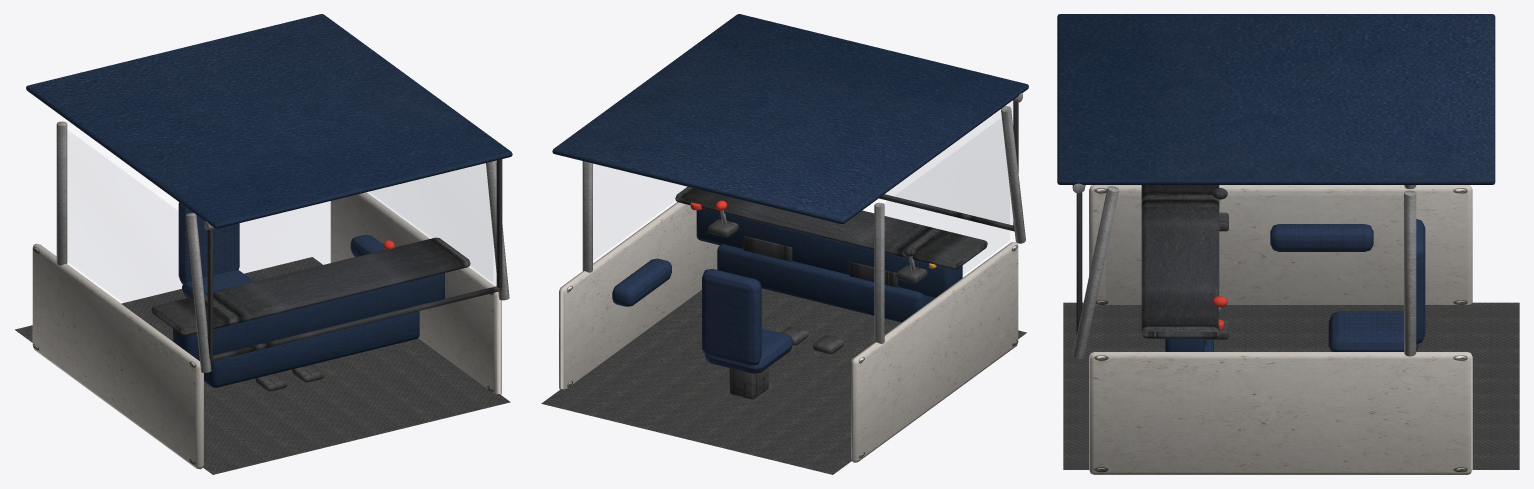
Rendered from train-cab.glb.
3 views of the same model, side by side, from view 1: azimuth 30°, elevation 25°; view 2: azimuth 150°, elevation 25°; view 3: azimuth 270°, elevation 25° (orthographic). The views are drawn at different scales.
Visible parts, largest first — view 1: Roof lining, TrainCabRoot_Static_IMG_Lower_panel_fasteners, TrainCabRoot_Static_IMG_antislip_floor_rubber, TrainCabRoot_Static_IMG_rubber_gaskets, TrainCabRoot_Static_IMG_blank_navy_cockpit, TrainCabRoot_Static_IMG_thin_transparent_safety_glazing, TrainCabRoot_Static_IMG_brushed_aluminium, TrainCabRoot_Static_IMG_woven_navy_seating, TrainCabRoot_Static_IMG_dark_underbody_steel; view 2: Roof lining, TrainCabRoot_Static_IMG_Lower_panel_fasteners, TrainCabRoot_Static_IMG_antislip_floor_rubber, TrainCabRoot_Static_IMG_blank_navy_cockpit, TrainCabRoot_Static_IMG_rubber_gaskets, TrainCabRoot_Static_IMG_woven_navy_seating, TrainCabRoot_Static_IMG_thin_transparent_safety_glazing, TrainCabRoot_Static_IMG_brushed_aluminium, TrainCabRoot_Static_IMG_dark_underbody_steel; view 3: TrainCabRoot_Static_IMG_Lower_panel_fasteners, Roof lining, TrainCabRoot_Static_IMG_antislip_floor_rubber, TrainCabRoot_Static_IMG_rubber_gaskets, TrainCabRoot_Static_IMG_woven_navy_seating, TrainCabRoot_Static_IMG_brushed_aluminium, TrainCabRoot_Static_IMG_blank_navy_cockpit.
Part boxes in pixels (box(x1,y1,x2,y2)): Roof lining: box(26, 14, 512, 228); TrainCabRoot_Static_IMG_Lower_panel_fasteners: box(32, 192, 501, 469); TrainCabRoot_Static_IMG_antislip_floor_rubber: box(15, 257, 510, 474); TrainCabRoot_Static_IMG_rubber_gaskets: box(151, 159, 502, 361); TrainCabRoot_Static_IMG_blank_navy_cockpit: box(173, 273, 444, 387); TrainCabRoot_Static_IMG_thin_transparent_safety_glazing: box(370, 164, 492, 280); TrainCabRoot_Static_IMG_brushed_aluminium: box(56, 121, 509, 372); TrainCabRoot_Static_IMG_woven_navy_seating: box(178, 202, 385, 297); TrainCabRoot_Static_IMG_dark_underbody_steel: box(255, 364, 323, 391); Roof lining: box(552, 14, 1028, 223); TrainCabRoot_Static_IMG_Lower_panel_fasteners: box(559, 202, 1018, 462); TrainCabRoot_Static_IMG_antislip_floor_rubber: box(541, 288, 1026, 474); TrainCabRoot_Static_IMG_blank_navy_cockpit: box(696, 208, 962, 322); TrainCabRoot_Static_IMG_rubber_gaskets: box(675, 101, 1018, 287); TrainCabRoot_Static_IMG_woven_navy_seating: box(612, 258, 793, 373); TrainCabRoot_Static_IMG_thin_transparent_safety_glazing: box(895, 118, 1009, 224); TrainCabRoot_Static_IMG_brushed_aluminium: box(582, 93, 1025, 343); TrainCabRoot_Static_IMG_dark_underbody_steel: box(708, 219, 927, 399); TrainCabRoot_Static_IMG_Lower_panel_fasteners: box(1089, 185, 1472, 474); Roof lining: box(1057, 14, 1495, 184); TrainCabRoot_Static_IMG_antislip_floor_rubber: box(1063, 302, 1519, 469); TrainCabRoot_Static_IMG_rubber_gaskets: box(1076, 185, 1219, 344); TrainCabRoot_Static_IMG_woven_navy_seating: box(1270, 219, 1425, 351); TrainCabRoot_Static_IMG_brushed_aluminium: box(1072, 183, 1416, 359); TrainCabRoot_Static_IMG_blank_navy_cockpit: box(1165, 338, 1213, 351).
Size of the model in its own units: 2.68 by 2.14 by 3.04.
10 materials, 8 textured.
